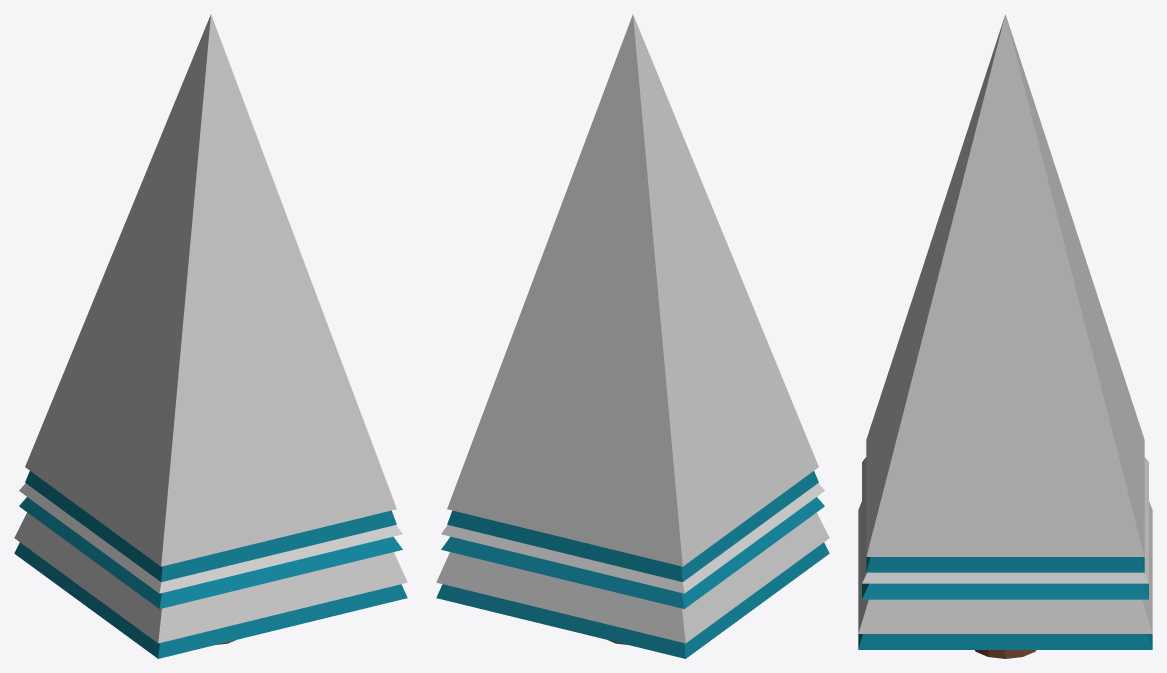
The model's file is Tree_34_winter_blue_mat.fbx.
3 renders of one model, left to right at view 1: azimuth 30°, elevation 25°; view 2: azimuth 150°, elevation 25°; view 3: azimuth 270°, elevation 25°, orthographic. The views are drawn at different scales.
Parts seen in each view (by area): view 1: Tree_34_winter_blue_mat; view 2: Tree_34_winter_blue_mat; view 3: Tree_34_winter_blue_mat.
Boxes of the visible parts, x1,y1,x2,y2 form: Tree_34_winter_blue_mat: (14, 14, 407, 658); Tree_34_winter_blue_mat: (436, 14, 829, 658); Tree_34_winter_blue_mat: (858, 14, 1152, 658).
Bounding box in the file's own units: 83.78 × 198 × 83.78.
